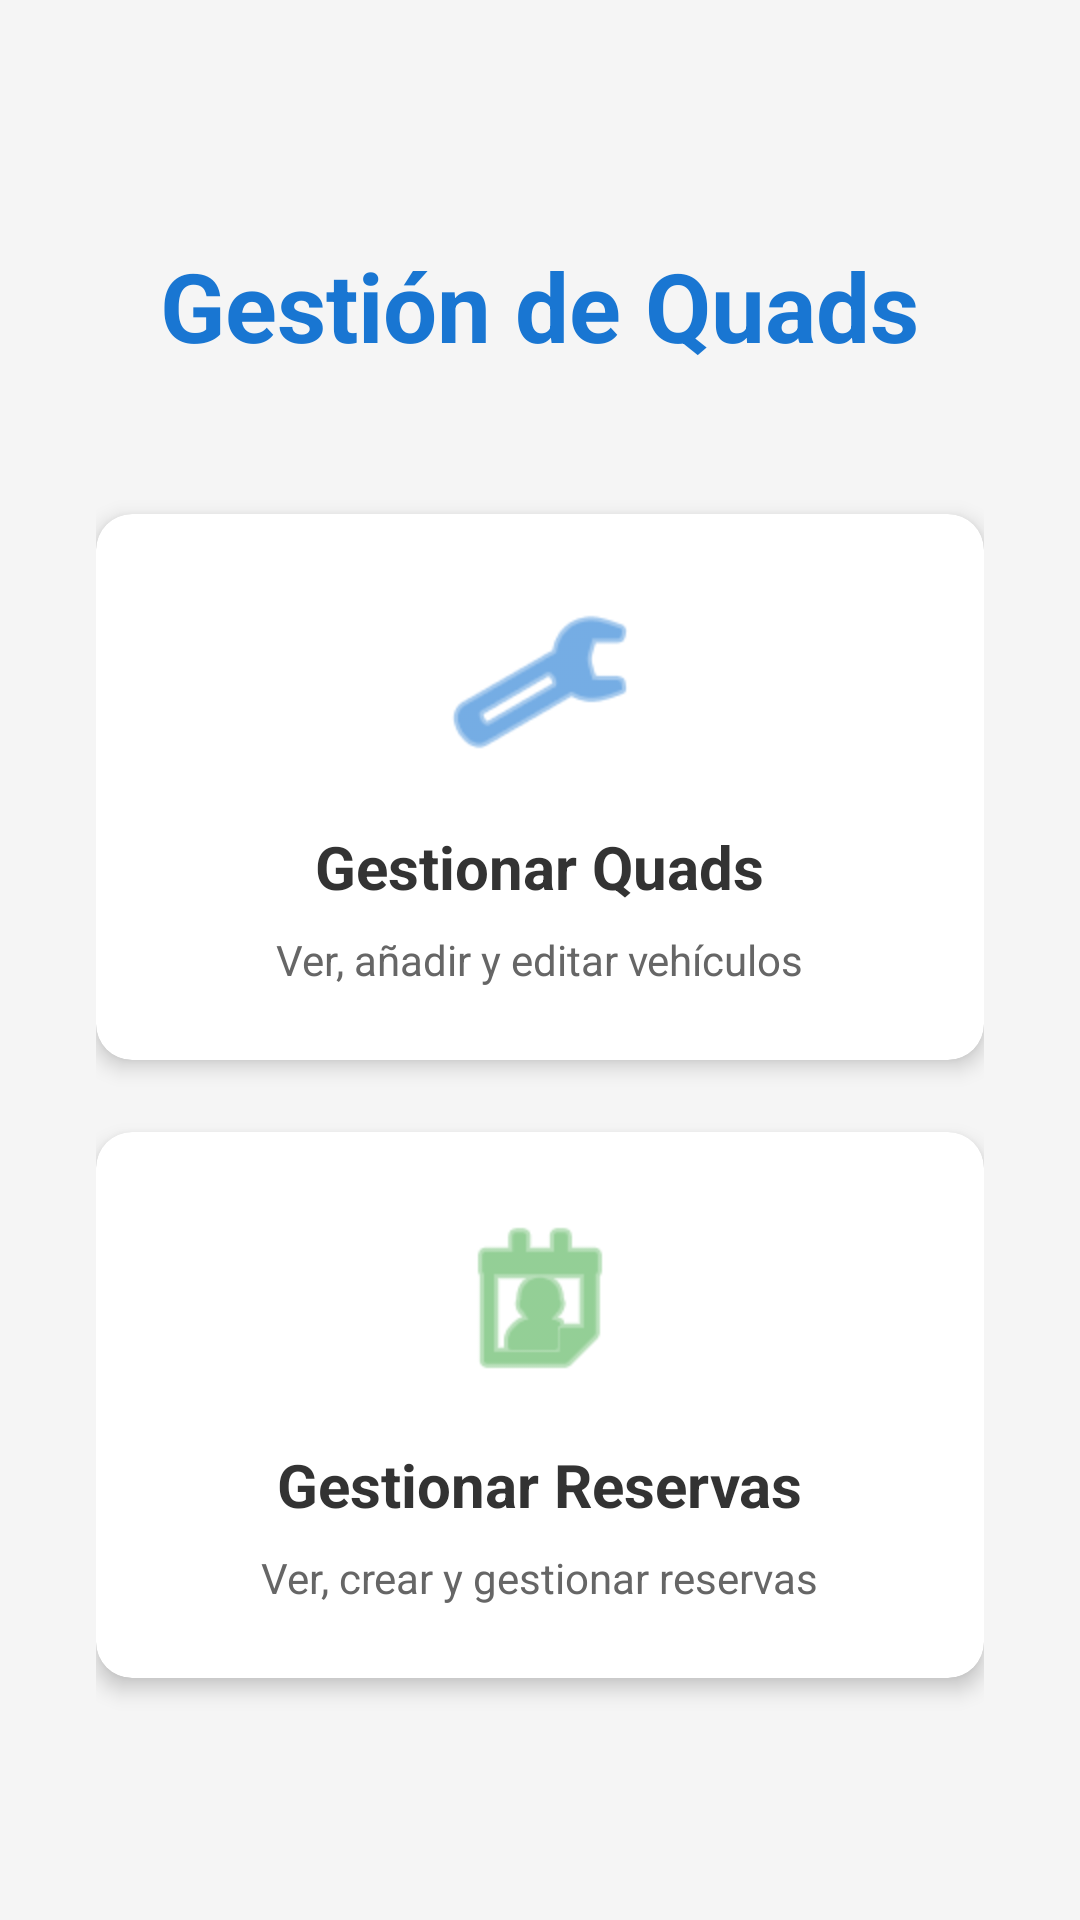

Point at icon controls on the screen. Image size 1080px x 1920px, points as (x=x, y=y).
calendar: (x=540, y=1298)
manage: (x=540, y=682)
